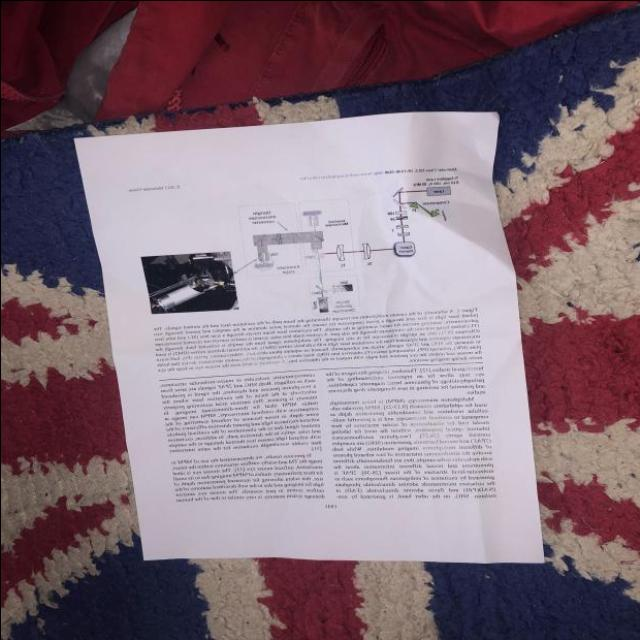kertas: (74, 94, 543, 604)
